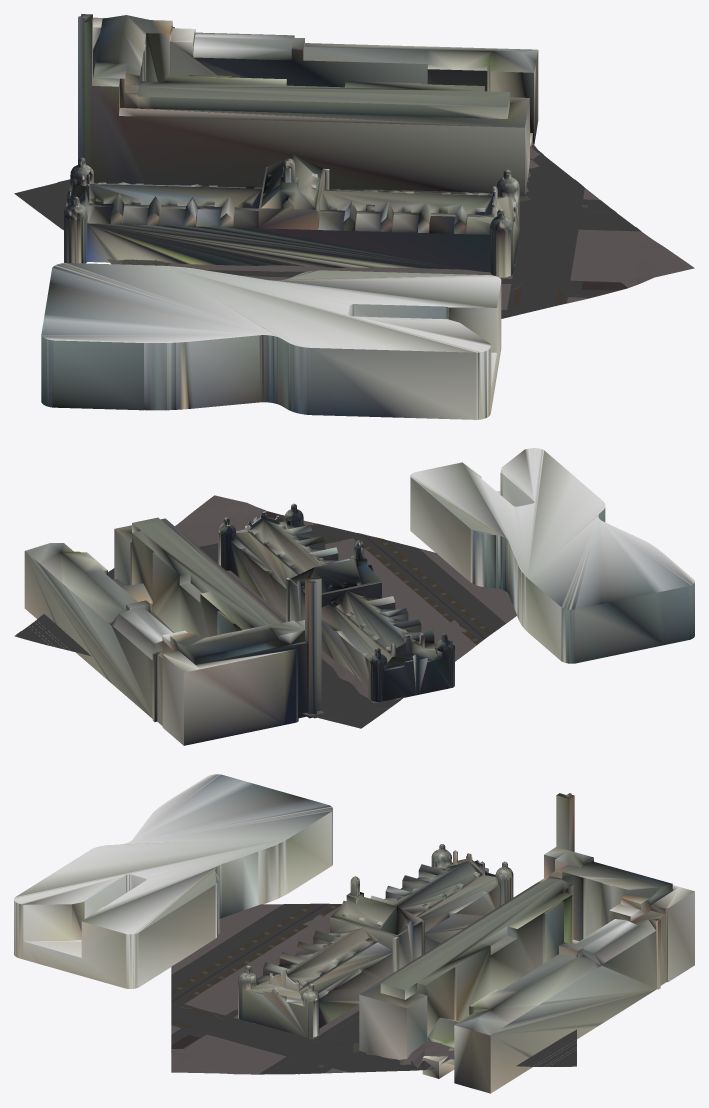
The picture shows the model from 3 angles, top to bottom: view 1: azimuth 30°, elevation 25°; view 2: azimuth 150°, elevation 25°; view 3: azimuth 270°, elevation 25°; orthographic projection. The views are drawn at different scales.
Visible parts, largest first — view 1: c_p04_p02; view 2: c_p04_p02; view 3: c_p04_p02.
Part boxes in pixels (x1,y1,x2,y2): c_p04_p02: (14, 14, 694, 419); c_p04_p02: (14, 448, 694, 745); c_p04_p02: (14, 774, 694, 1093).
Size of the model in its own units: 197 by 47.77 by 215.
